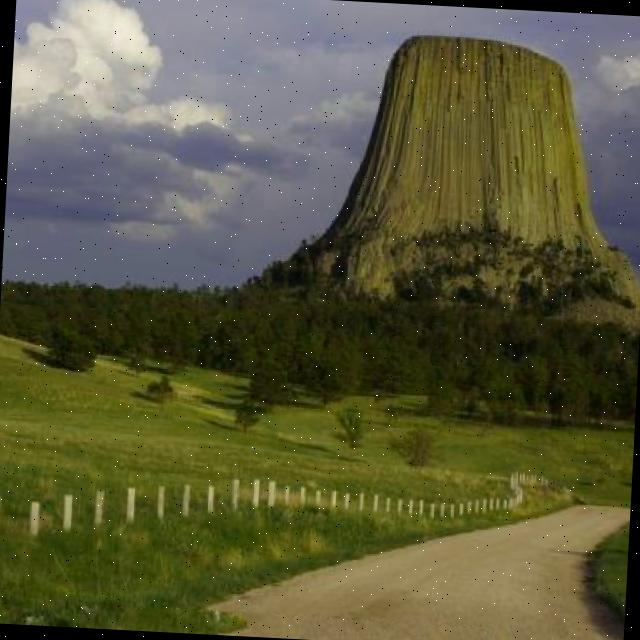Cu: (6, 1, 296, 234)
